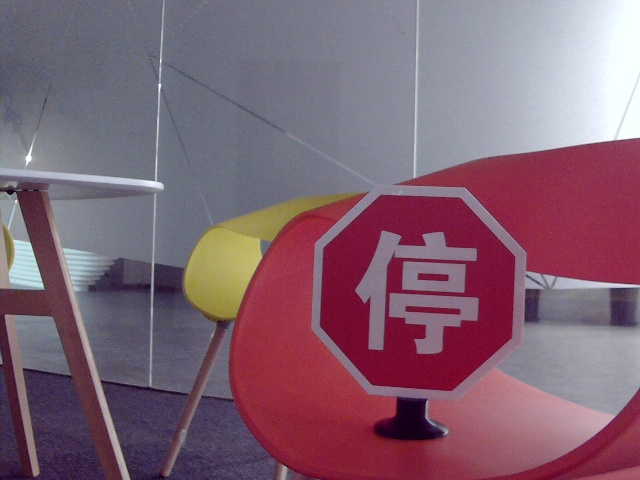stop: (352, 220, 478, 360)
